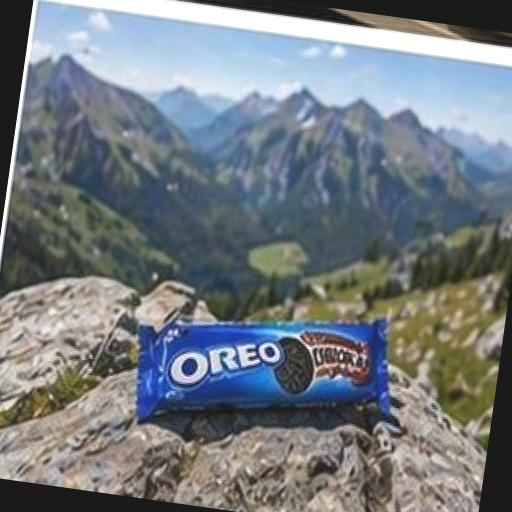oreo: (72, 233, 458, 476)
